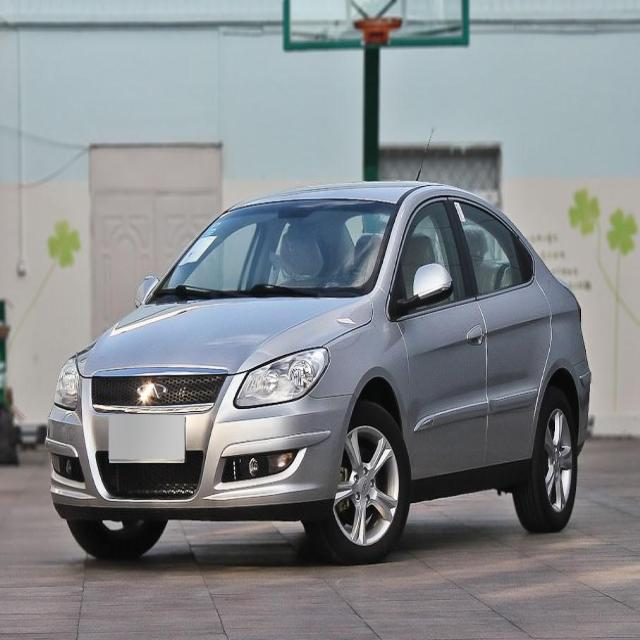door: (448, 199, 548, 482)
front_bumper: (44, 388, 360, 524)
front_glass: (155, 196, 399, 298)
front_left_side_door: (388, 190, 492, 487)
front_left_side_light: (232, 345, 332, 410)
front_left_side_mirror: (397, 261, 455, 314)
front_right_side_light: (53, 352, 82, 413)
front_right_side_mirror: (133, 273, 161, 306)
wheel: (301, 405, 411, 562), (512, 390, 578, 532), (68, 516, 168, 562)
